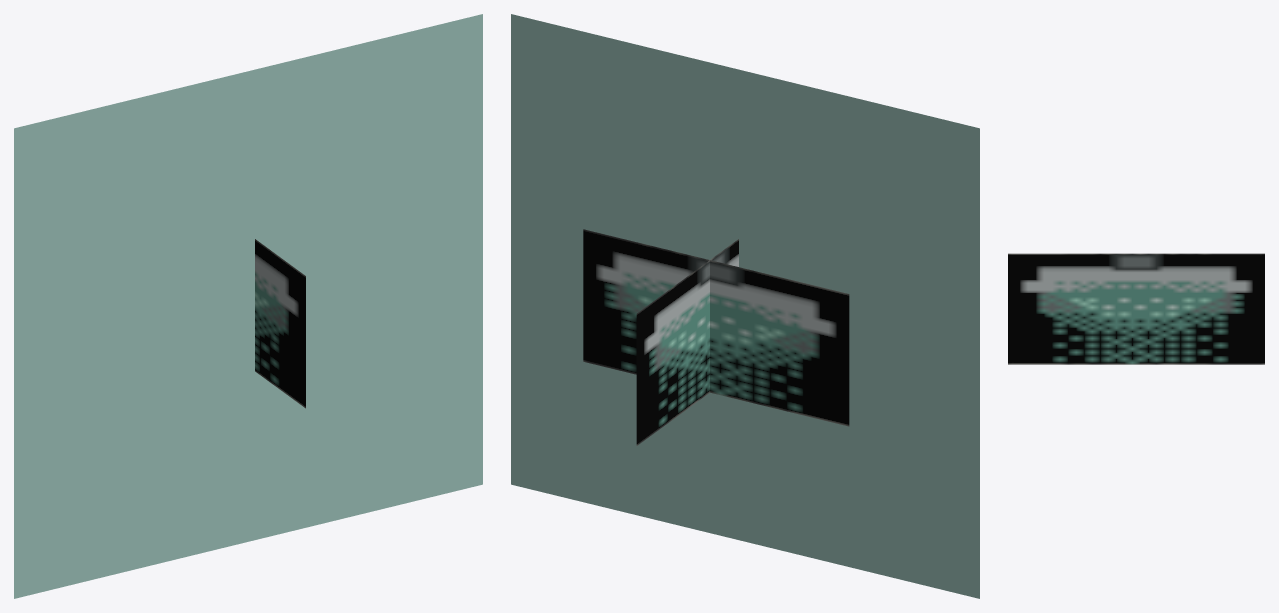
Rendered from lamp_light.glb.
The picture shows the model from 3 angles, left to right: view 1: azimuth 30°, elevation 25°; view 2: azimuth 150°, elevation 25°; view 3: azimuth 270°, elevation 25°; orthographic projection. The views are drawn at different scales.
Parts seen in each view (by area): view 1: halo, lamp; view 2: halo, lamp; view 3: lamp.
Part boxes in pixels (box(x1,y1,x2,y2)): halo: box(14, 14, 482, 598); lamp: box(255, 239, 305, 408); halo: box(511, 14, 979, 598); lamp: box(583, 229, 849, 445); lamp: box(1008, 253, 1264, 364).
Bounding box in the file's own units: 1.48 × 1.42 × 0.84.
2 materials, 1 textured.
